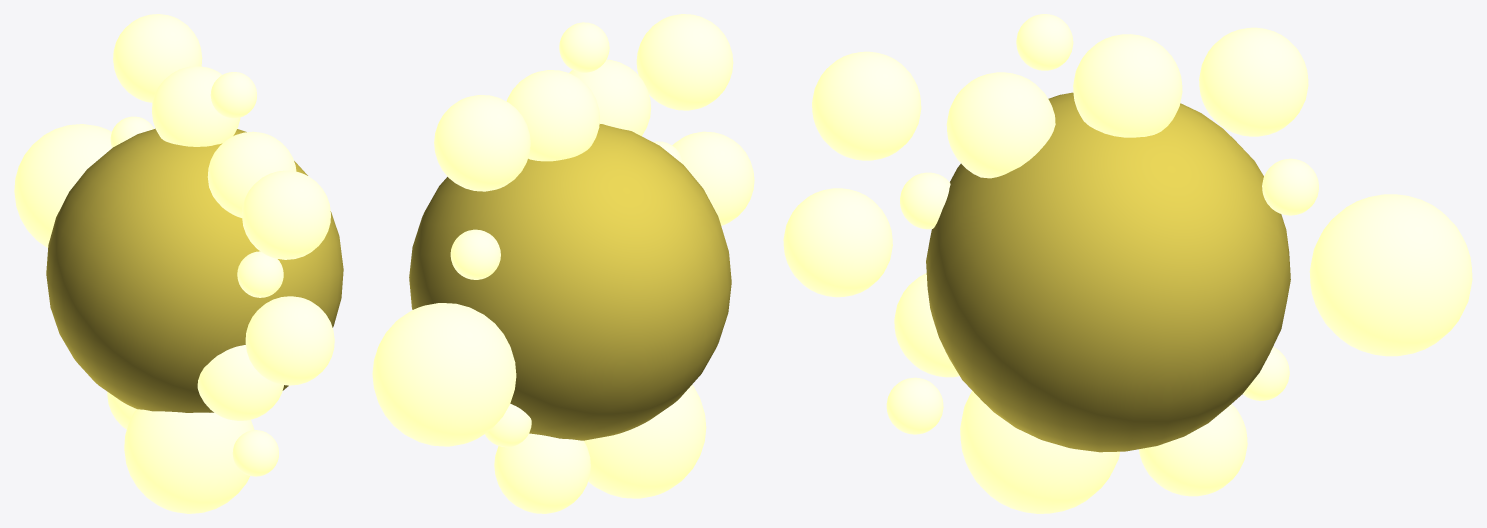
File: MemorySpore_Item.fbx
3 renders of one model, left to right at view 1: azimuth 30°, elevation 25°; view 2: azimuth 150°, elevation 25°; view 3: azimuth 270°, elevation 25°, orthographic. The views are drawn at different scales.
Visible parts, largest first — view 1: Sphere, Sphere.014, Sphere.018, Sphere.012, Sphere.005, Sphere.020, Sphere.008, Sphere.002, Sphere.013, Sphere.015, Sphere.001, Sphere.019 (+2 smaller); view 2: Sphere, Sphere.018, Sphere.014, Sphere.020, Sphere.005, Sphere.008, Sphere.016, Sphere.012, Sphere.002, Sphere.001, Sphere.010, Sphere.017; view 3: Sphere, Sphere.018, Sphere.014, Sphere.005, Sphere.020, Sphere.012, Sphere.008, Sphere.002, Sphere.016, Sphere.013, Sphere.015, Sphere.001 (+3 smaller).
Part boxes in pixels (left/top/right/bottom): Sphere: left=46, top=128, right=343, bottom=412; Sphere.014: left=124, top=409, right=254, bottom=513; Sphere.018: left=14, top=124, right=111, bottom=247; Sphere.012: left=245, top=296, right=334, bottom=385; Sphere.005: left=242, top=170, right=330, bottom=259; Sphere.020: left=113, top=14, right=202, bottom=102; Sphere.008: left=152, top=66, right=240, bottom=146; Sphere.002: left=207, top=131, right=296, bottom=217; Sphere.013: left=197, top=344, right=283, bottom=420; Sphere.015: left=232, top=430, right=278, bottom=476; Sphere.001: left=210, top=72, right=256, bottom=118; Sphere.019: left=237, top=251, right=283, bottom=297; Sphere: left=409, top=124, right=731, bottom=440; Sphere.018: left=372, top=303, right=516, bottom=446; Sphere.014: left=584, top=384, right=706, bottom=498; Sphere.020: left=434, top=95, right=530, bottom=191; Sphere.005: left=636, top=14, right=733, bottom=110; Sphere.008: left=506, top=70, right=599, bottom=161; Sphere.016: left=494, top=433, right=590, bottom=513; Sphere.012: left=672, top=131, right=754, bottom=225; Sphere.002: left=569, top=59, right=651, bottom=135; Sphere.001: left=559, top=22, right=609, bottom=72; Sphere.010: left=450, top=229, right=500, bottom=279; Sphere.017: left=484, top=403, right=531, bottom=447; Sphere: left=926, top=92, right=1290, bottom=452; Sphere.018: left=1309, top=194, right=1472, bottom=356; Sphere.014: left=960, top=390, right=1119, bottom=513; Sphere.005: left=812, top=51, right=921, bottom=160; Sphere.020: left=1199, top=27, right=1308, bottom=136; Sphere.012: left=783, top=188, right=892, bottom=297; Sphere.008: left=1073, top=34, right=1182, bottom=137; Sphere.002: left=946, top=72, right=1055, bottom=178; Sphere.016: left=1139, top=404, right=1247, bottom=496; Sphere.013: left=894, top=273, right=959, bottom=377; Sphere.015: left=886, top=377, right=943, bottom=434; Sphere.001: left=1016, top=14, right=1073, bottom=70.
Size of the model in its own units: 364 by 570 by 689.
